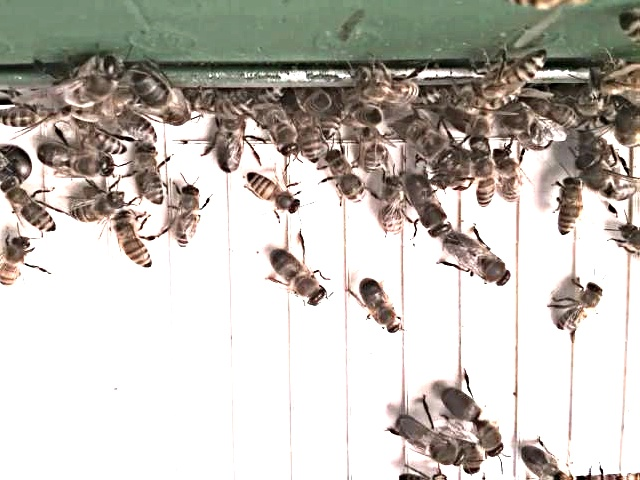Drone: (441, 384, 506, 461), (391, 414, 468, 469), (446, 232, 514, 292), (268, 245, 328, 311), (35, 139, 117, 181), (404, 173, 453, 240), (578, 153, 640, 202), (358, 276, 406, 338), (214, 112, 247, 178)
Worker: (4, 181, 58, 238), (476, 58, 544, 103), (246, 173, 305, 217), (557, 282, 606, 332), (116, 210, 155, 272), (326, 150, 366, 207), (171, 184, 202, 253), (70, 188, 123, 228), (556, 176, 588, 240), (379, 176, 410, 240), (495, 146, 528, 206), (136, 148, 167, 209), (0, 235, 33, 291), (473, 144, 497, 212), (298, 106, 324, 166)
